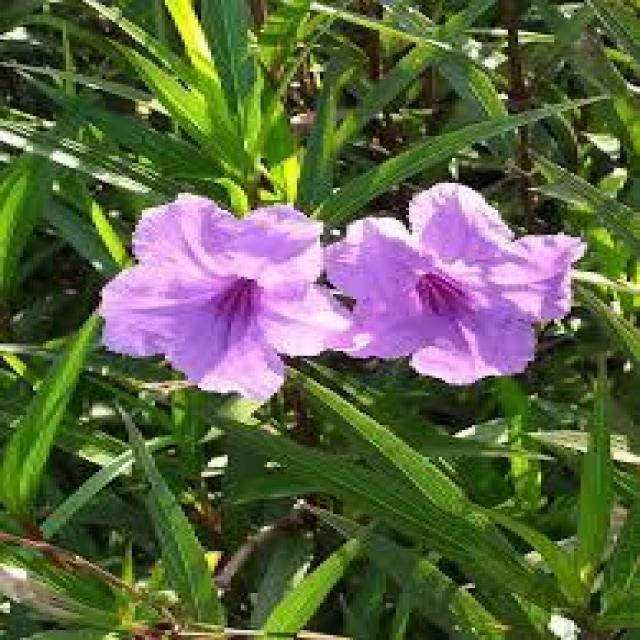organic waste: (323, 173, 584, 390), (93, 194, 360, 404)
